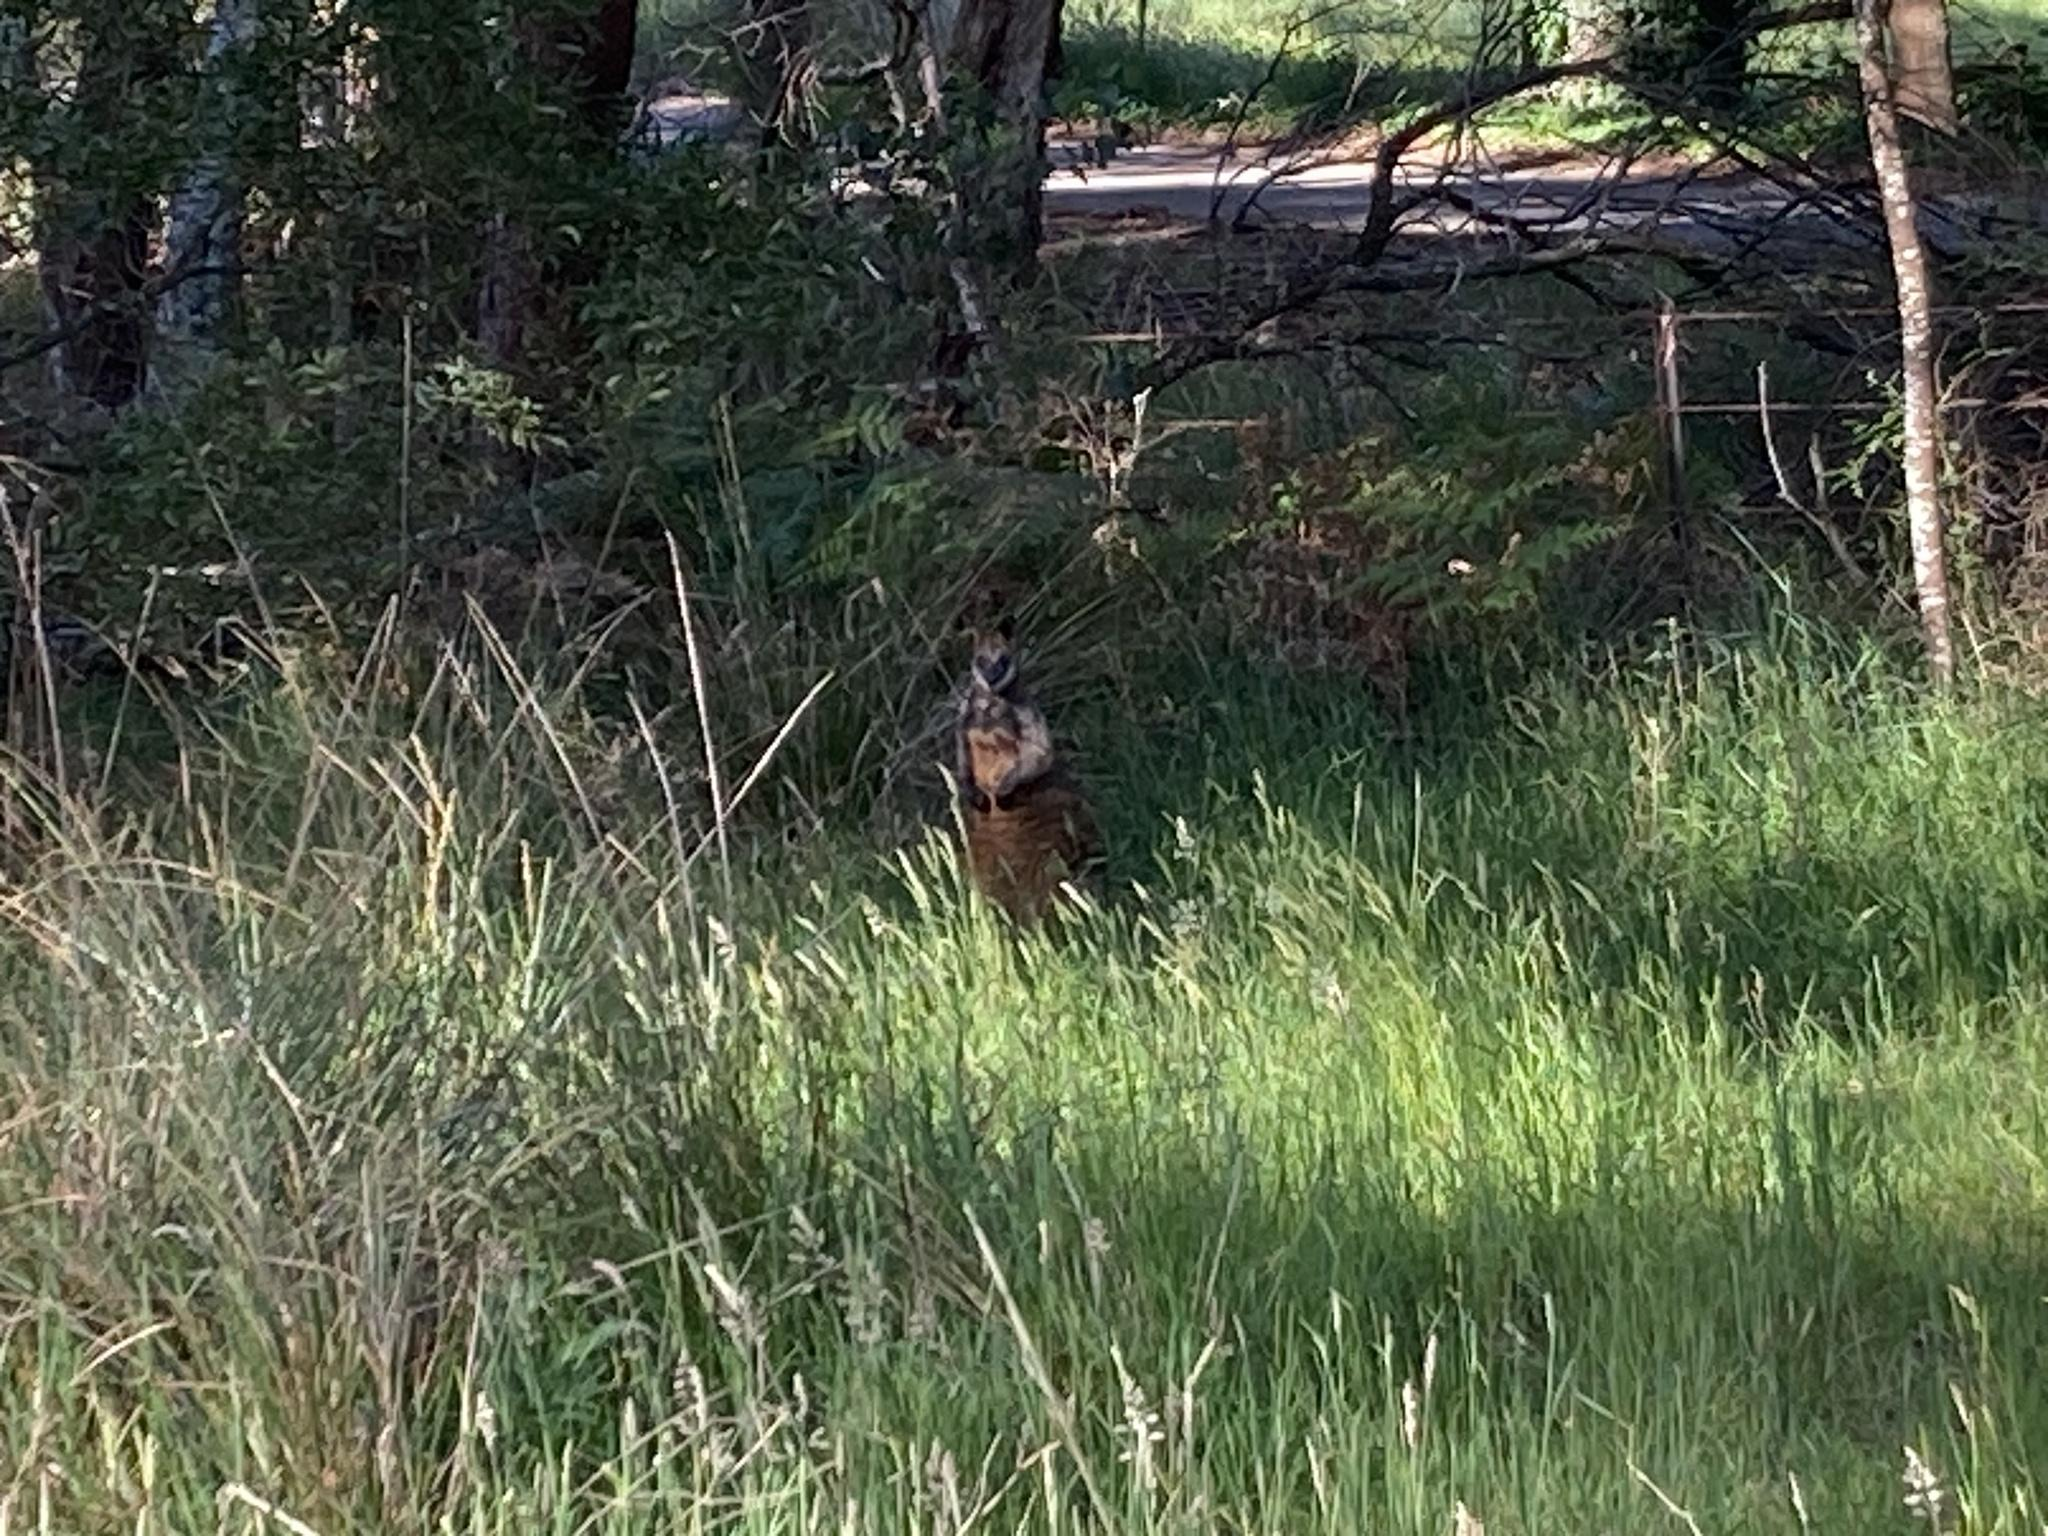Swamp wallaby: (963, 616, 1114, 929)
